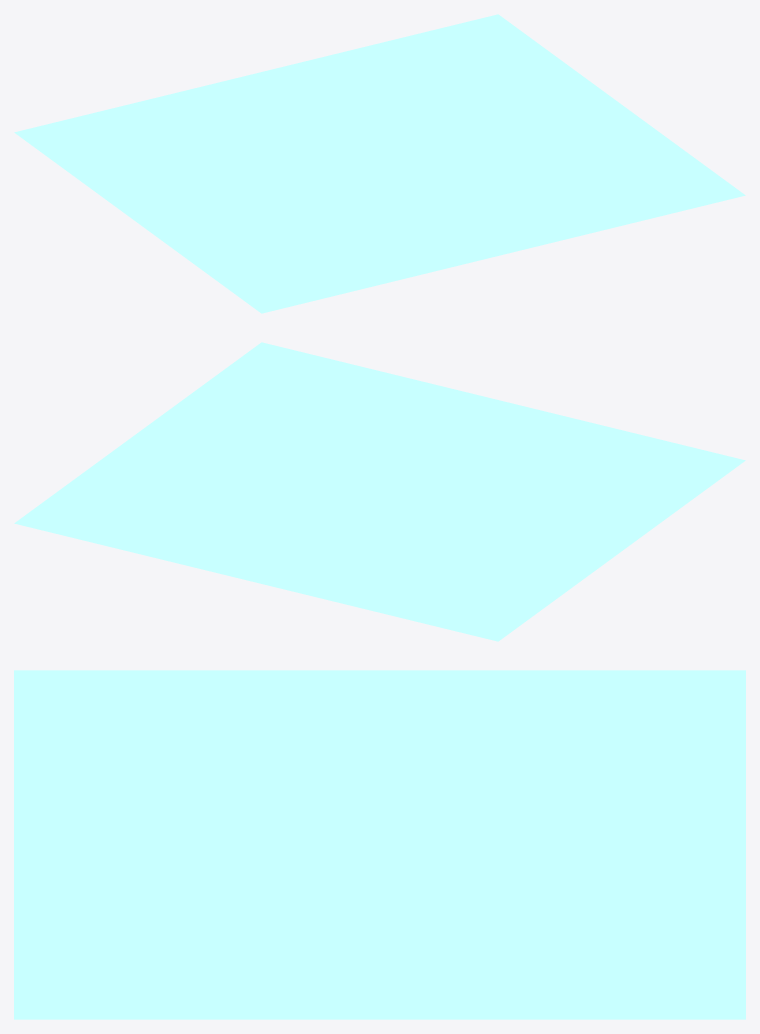
Rendered from FFOnly.fbx.
3 renders of one model, top to bottom at view 1: azimuth 30°, elevation 25°; view 2: azimuth 150°, elevation 25°; view 3: azimuth 270°, elevation 25°, orthographic. The views are drawn at different scales.
Parts seen in each view (by area): view 1: Forcefield; view 2: Forcefield; view 3: Forcefield.
Boxes of the visible parts, left/top/right/bottom form: Forcefield: left=14, top=14, right=745, bottom=313; Forcefield: left=14, top=342, right=745, bottom=641; Forcefield: left=14, top=670, right=745, bottom=1019.
Size of the model in its own units: 5.35 by 0 by 4.74.
